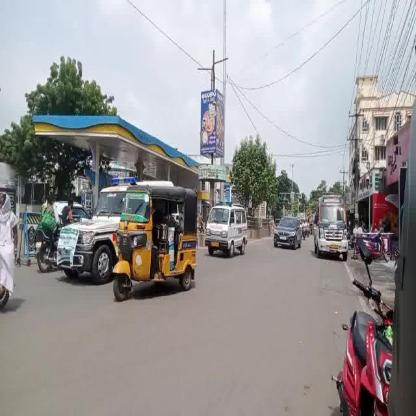priority: (50, 174, 132, 288), (313, 190, 355, 274)
